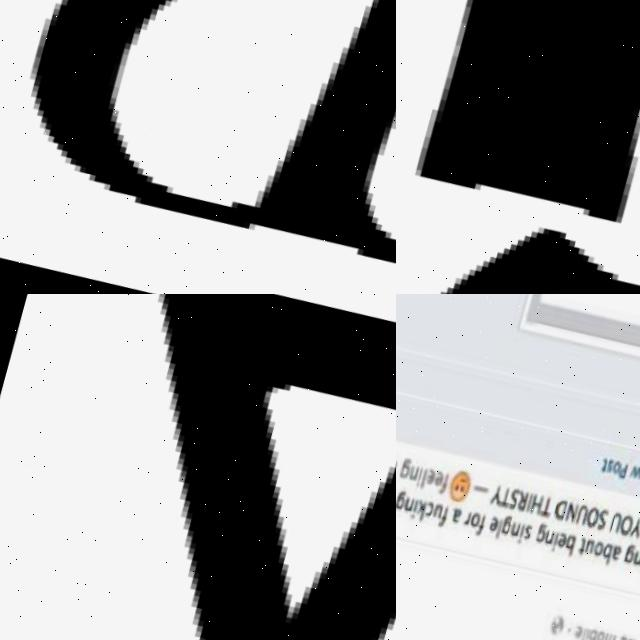A: (0, 294, 396, 640), (607, 550, 621, 568), (448, 511, 461, 529)
B: (559, 537, 575, 562), (597, 547, 611, 571), (583, 633, 596, 640)
C: (421, 504, 433, 522)
D: (551, 503, 567, 527)
E: (554, 535, 568, 555), (485, 520, 499, 538), (423, 471, 436, 489), (431, 473, 443, 491), (569, 628, 581, 640)
F: (472, 518, 485, 542), (435, 509, 447, 532), (438, 477, 448, 498)
G: (396, 0, 640, 294), (497, 518, 513, 540), (621, 548, 635, 570), (532, 527, 546, 548), (397, 461, 411, 482), (396, 491, 405, 514)
H: (527, 497, 542, 521)
I: (513, 526, 524, 548), (408, 500, 418, 522), (549, 536, 559, 557), (414, 470, 422, 491), (523, 497, 530, 516), (581, 631, 587, 640), (638, 557, 640, 576)
K: (412, 502, 425, 525)
L: (492, 522, 501, 543), (419, 472, 426, 492), (577, 631, 584, 640)
M: (600, 634, 614, 640)
N: (562, 507, 577, 528), (541, 532, 554, 551), (406, 466, 418, 485), (507, 526, 520, 543), (401, 498, 413, 516), (629, 556, 640, 572)
O: (616, 519, 633, 543), (583, 511, 599, 535), (589, 543, 603, 564), (467, 515, 480, 534), (611, 465, 621, 481), (636, 470, 640, 487), (592, 636, 603, 640)
P: (616, 466, 629, 486)
R: (514, 495, 528, 516), (461, 514, 469, 531)
S: (593, 513, 608, 537), (505, 492, 519, 515), (520, 528, 532, 547), (603, 463, 613, 479)
T: (495, 489, 511, 513), (537, 499, 553, 521), (575, 542, 585, 560), (599, 462, 607, 478)
U: (606, 516, 622, 540), (573, 507, 588, 531), (430, 507, 443, 524), (581, 544, 593, 561)
W: (626, 468, 640, 485)
Y: (487, 486, 503, 510), (626, 521, 640, 544)
